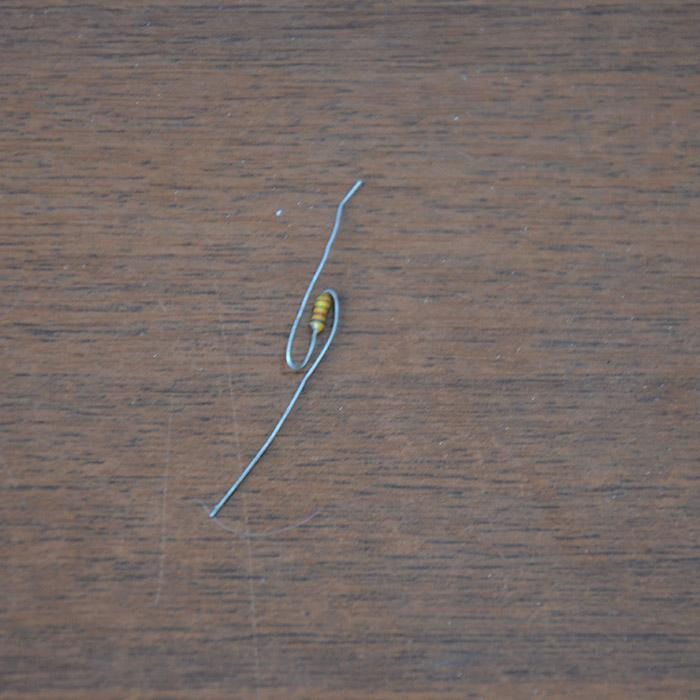resistor: (308, 292, 332, 334)
